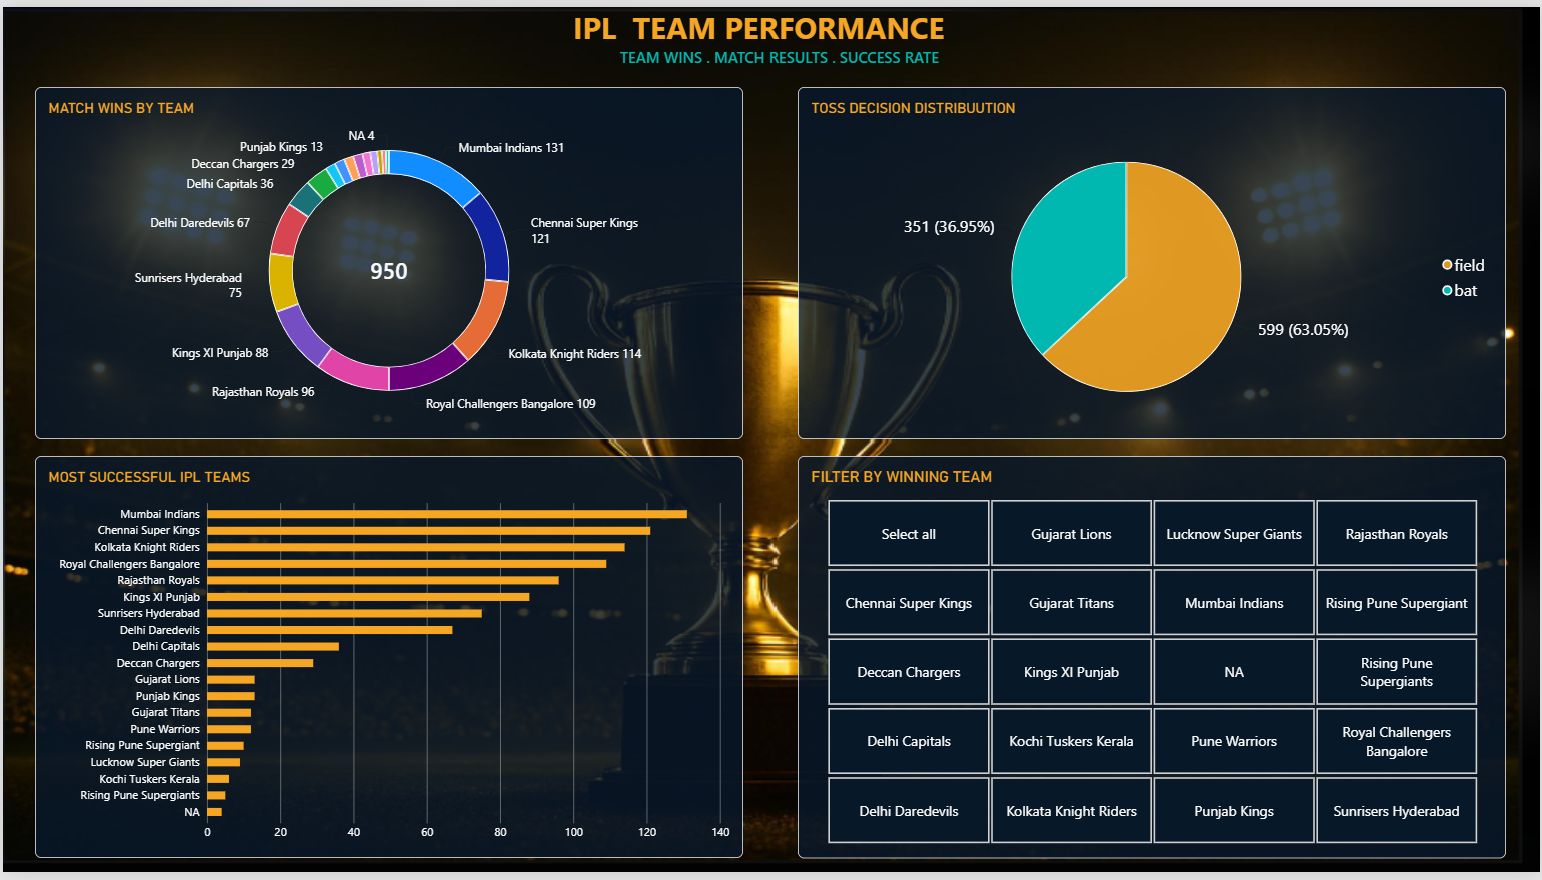

Layout of this report page (visuals, bound fields, positions):
{"tool":"powerbi","page":{"name":"Team Performance","canvas":[1920,1080],"ordinal":2},"visuals":[{"type":"textbox","box":[713,0,494,82],"z":0},{"type":"donutChart","title":"MATCH WINS BY TEAM","fields":{"Category":["ipl-matches.WinningTeam"],"Y":["CountNonNull(ipl-matches.ID)"]},"box":[40,100,885,440],"z":1000},{"type":"pieChart","title":"TOSS DECISION DISTRIBUUTION","fields":{"Category":["ipl-matches.TossDecision"],"Y":["CountNonNull(ipl-matches.ID)"]},"box":[993.3,100,885,440],"z":2000},{"type":"clusteredBarChart","title":"MOST SUCCESSFUL IPL TEAMS","fields":{"Category":["ipl-matches.WinningTeam"],"Y":["CountNonNull(ipl-matches.ID)"]},"box":[40,560,885,502.5],"z":3000},{"type":"slicer","title":"FILTER BY WINNING TEAM","fields":{"Values":["ipl-matches.WinningTeam"]},"box":[993,560,885,503],"z":4000}]}

Visuals, with their boxes in screenshot pixels (x1, y1, x2, y2), scaled from the page's 1920x1080 canvas onto the 1542x880 screenshot:
textbox: box(573, 0, 969, 67)
"MATCH WINS BY TEAM" donutChart: box(32, 81, 743, 440)
"TOSS DECISION DISTRIBUUTION" pieChart: box(798, 81, 1509, 440)
"MOST SUCCESSFUL IPL TEAMS" clusteredBarChart: box(32, 456, 743, 866)
"FILTER BY WINNING TEAM" slicer: box(798, 456, 1508, 866)
